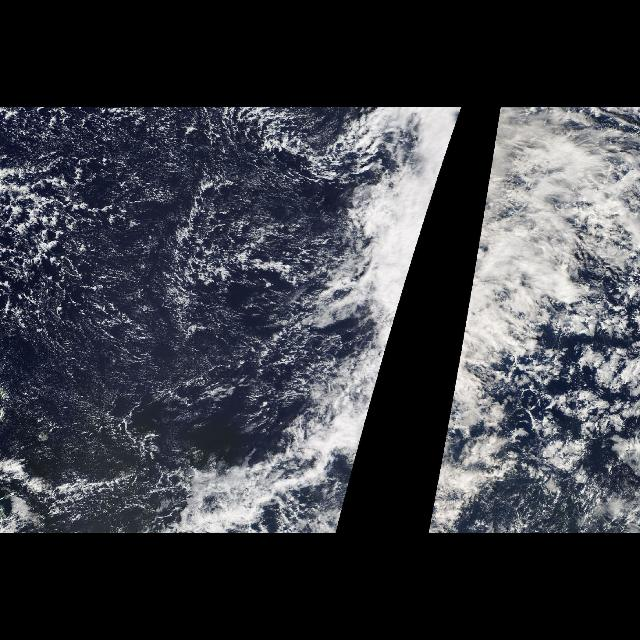Gravel: (0, 107, 304, 387)
Sugar: (2, 164, 304, 473)
